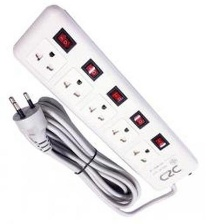three_eye_plug: (11, 4, 199, 196)
